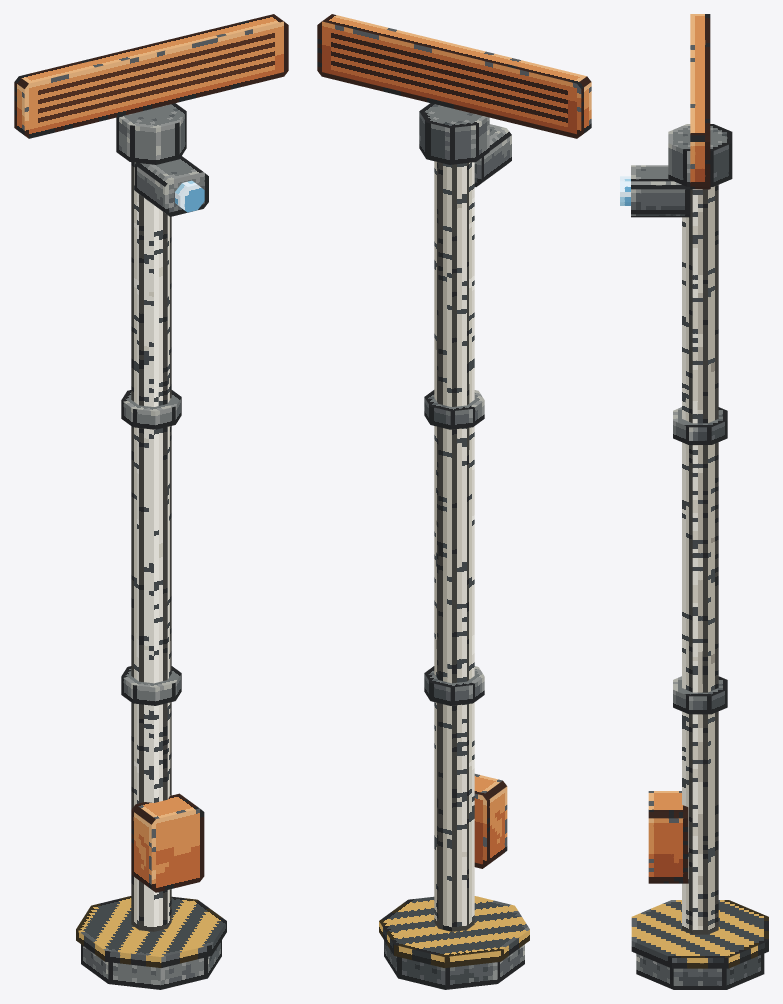
The model's file is st_sensor.glb.
The picture shows the model from 3 angles, left to right: view 1: azimuth 30°, elevation 25°; view 2: azimuth 150°, elevation 25°; view 3: azimuth 270°, elevation 25°; orthographic projection. The views are drawn at different scales.
Visible parts, largest first — view 1: pole, radar, collar, box, turret, footing, cam, collar1, collar2, camlens; view 2: pole, radar, collar, turret, footing, box, collar1, collar2, cam; view 3: pole, collar, box, radar, footing, cam, turret, collar1, collar2.
Boxes of the visible parts, bbox=[...] form: pole: bbox=[131, 162, 171, 931]; radar: bbox=[14, 14, 288, 138]; collar: bbox=[76, 896, 226, 967]; box: bbox=[131, 793, 204, 892]; turret: bbox=[116, 103, 186, 164]; footing: bbox=[81, 940, 221, 989]; cam: bbox=[134, 156, 208, 216]; collar1: bbox=[121, 666, 181, 705]; collar2: bbox=[121, 390, 181, 429]; camlens: bbox=[175, 180, 204, 212]; pole: bbox=[434, 161, 474, 931]; radar: bbox=[317, 14, 591, 138]; collar: bbox=[379, 896, 529, 967]; turret: bbox=[419, 103, 489, 164]; footing: bbox=[384, 940, 524, 989]; box: bbox=[474, 774, 507, 868]; collar1: bbox=[424, 666, 484, 705]; collar2: bbox=[424, 390, 484, 429]; cam: bbox=[474, 124, 511, 186]; pole: bbox=[682, 185, 718, 934]; collar: bbox=[631, 900, 768, 968]; box: bbox=[648, 791, 688, 883]; radar: bbox=[690, 14, 710, 189]; footing: bbox=[636, 953, 764, 989]; cam: bbox=[631, 165, 690, 217]; turret: bbox=[668, 124, 732, 186]; collar1: bbox=[673, 676, 727, 714]; collar2: bbox=[673, 407, 727, 444].
Bounding box in the file's own units: 30 × 99 × 15.03.
Materials: 1 (1 with a texture image).
